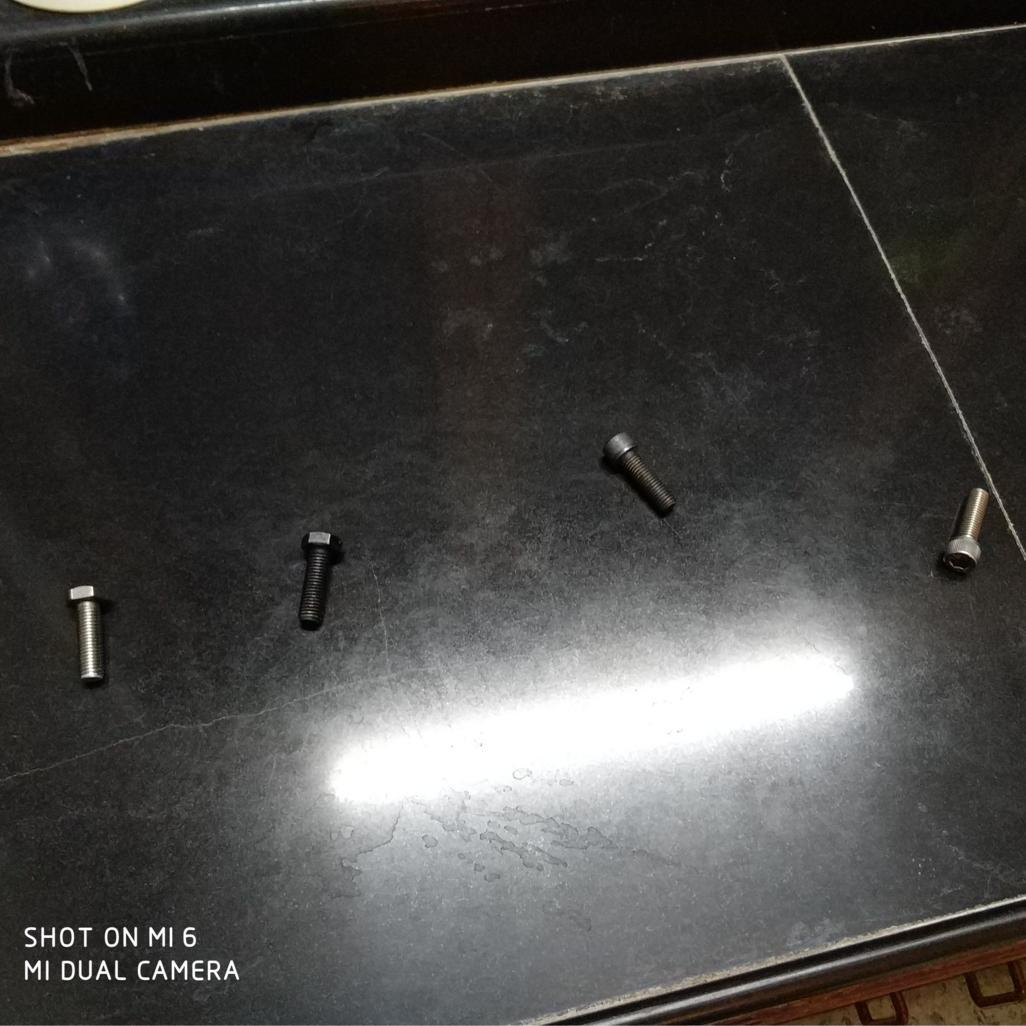screwtype1black: (596, 427, 682, 525)
screwtype1silver: (934, 464, 996, 587)
screwtype2black: (286, 523, 348, 631)
screwtype2silver: (55, 576, 121, 685)
